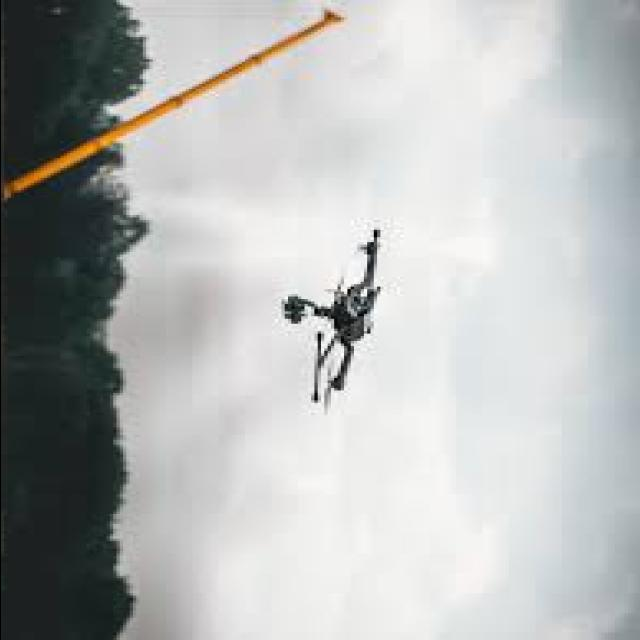drone: (270, 220, 412, 417)
